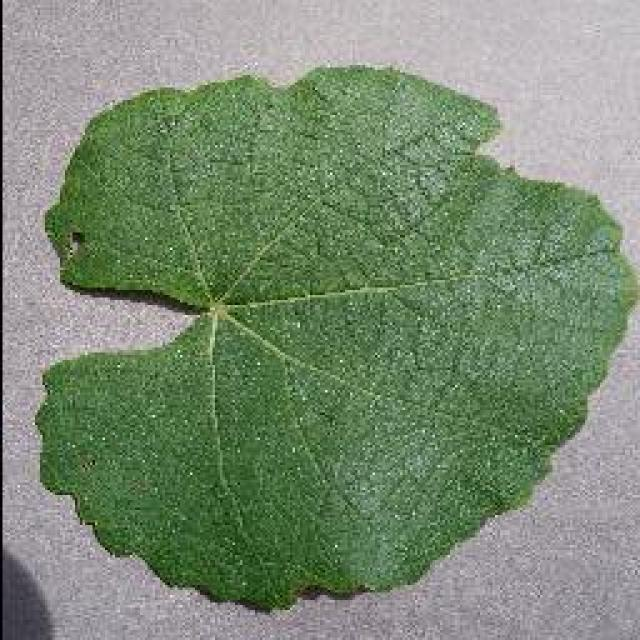Grape___healthy: (38, 68, 632, 608)
